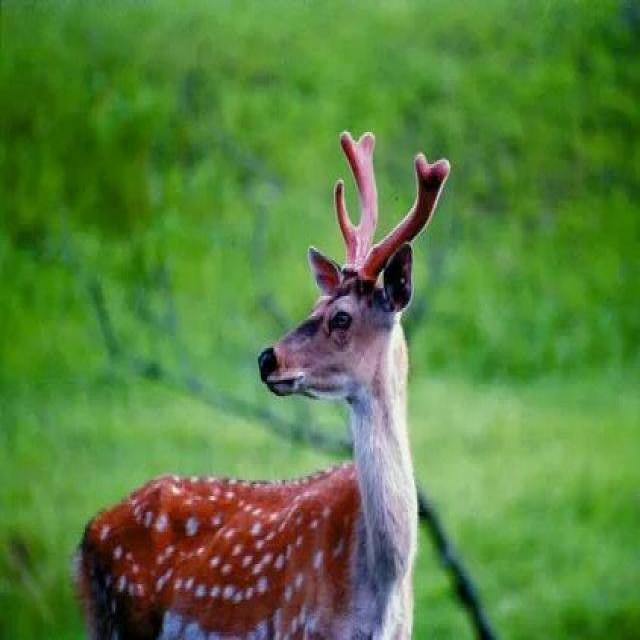deer: (62, 77, 500, 632)
